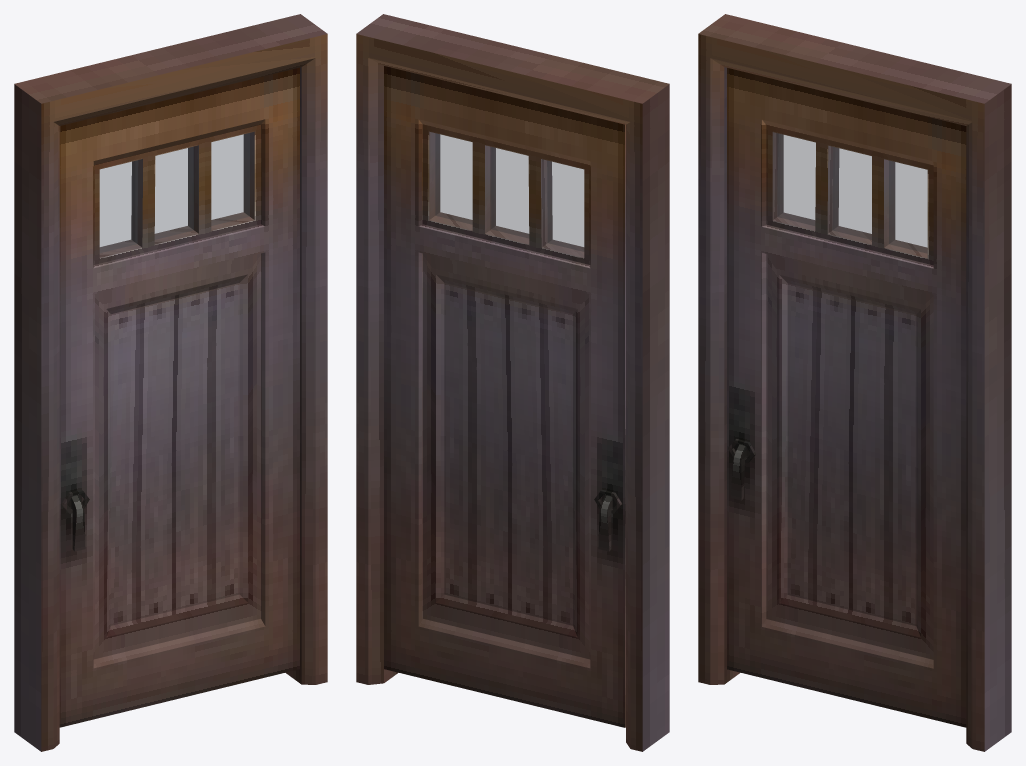
The model's file is door_front.glb.
3 renders of one model, left to right at view 1: azimuth 30°, elevation 25°; view 2: azimuth 150°, elevation 25°; view 3: azimuth 330°, elevation 25°, orthographic.
Visible parts, largest first — view 1: door_front; view 2: door_front; view 3: door_front.
Boxes of the visible parts, x1,y1,x2,y2 form: door_front: (14,14,327,751); door_front: (356,14,669,751); door_front: (698,14,1011,751).
Size of the model in its own units: 0.98 by 2.12 by 0.1646.
Materials: 2 (1 with a texture image).
